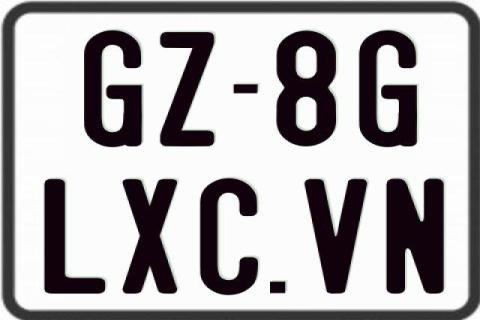0: (273, 28, 338, 148)
C: (197, 178, 256, 298)
G: (357, 30, 421, 148), (84, 29, 144, 147)
L: (42, 177, 106, 291)
N: (386, 176, 449, 295)
V: (305, 177, 368, 293)
X: (123, 179, 180, 297)
Z: (159, 31, 215, 147)
